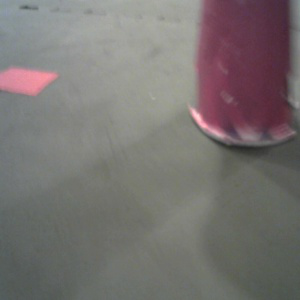right: (187, 1, 300, 153)
